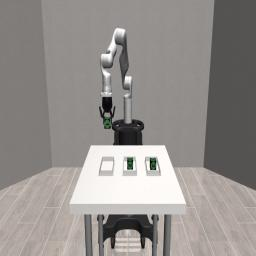cube1: (104, 117, 110, 129)
cube2: (126, 157, 134, 170)
cube3: (150, 157, 156, 170)
